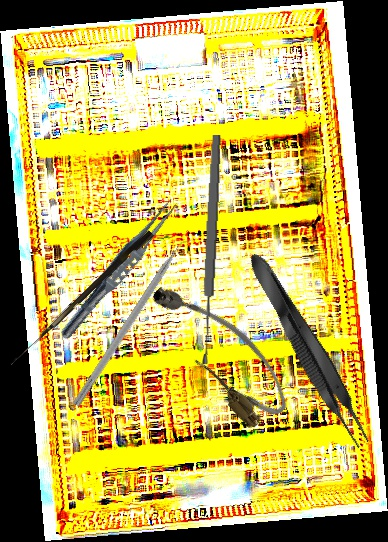Cannula: (141, 264, 300, 436)
Chopper: (72, 231, 200, 414)
Hook Surgical: (10, 227, 154, 372)
Surgical Spoon: (198, 134, 223, 365)
Tissue Forceps: (240, 246, 378, 453), (55, 190, 184, 347)
